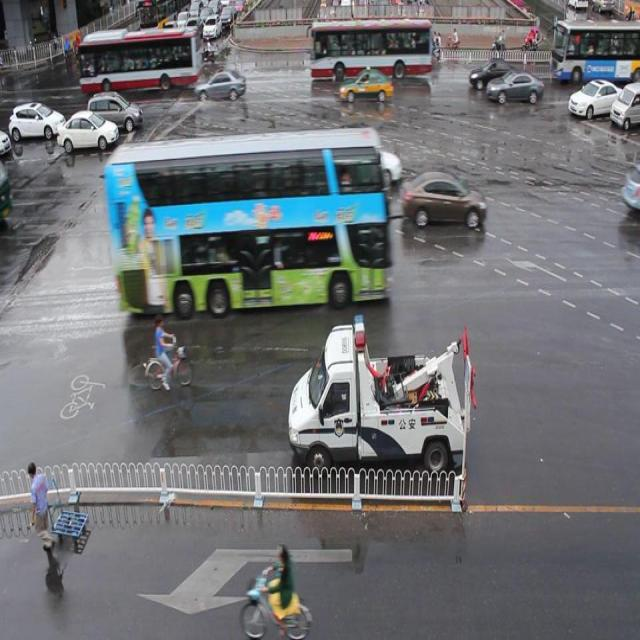car: (401, 170, 486, 229), (328, 145, 402, 186), (566, 78, 623, 118), (484, 68, 542, 106), (338, 68, 392, 105), (467, 58, 523, 90), (195, 69, 247, 103)
van: (108, 128, 386, 308), (308, 20, 431, 76), (551, 20, 640, 81)
